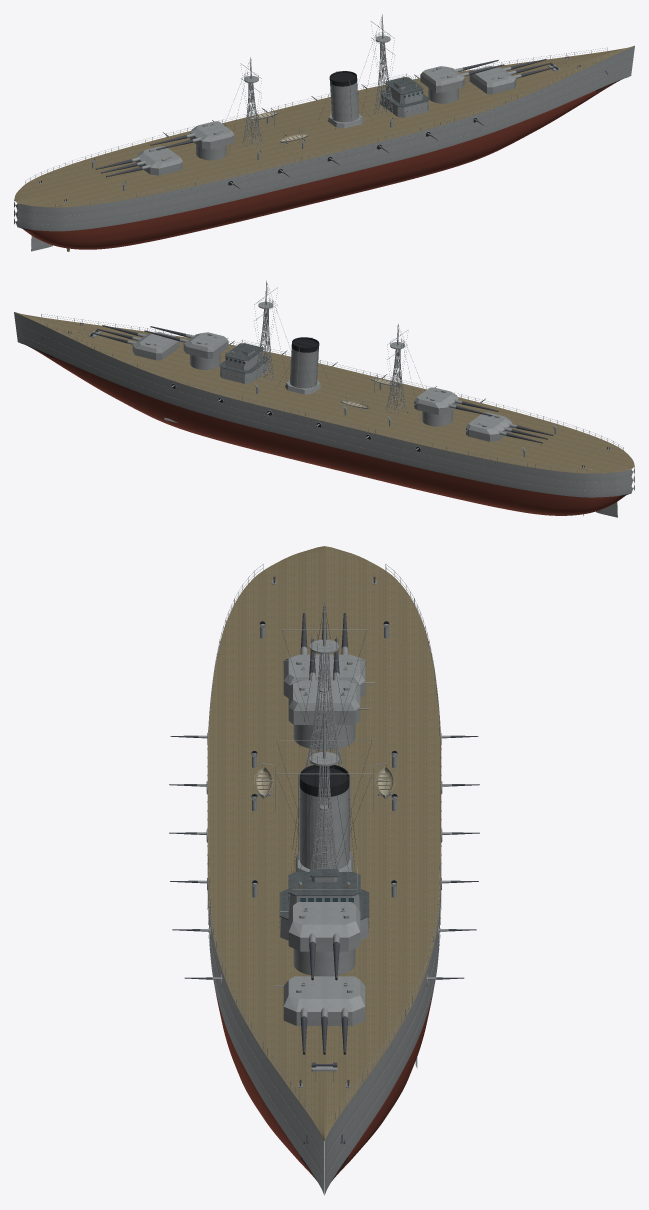
The model's file is nevada.glb.
3 renders of one model, top to bottom at view 1: azimuth 30°, elevation 25°; view 2: azimuth 150°, elevation 25°; view 3: azimuth 270°, elevation 25°, orthographic. The views are drawn at different scales.
Visible parts, largest first — view 1: Nevada class; view 2: Nevada class; view 3: Nevada class.
Part boxes in pixels (x1=…): Nevada class: x1=14, y1=14, x2=634, y2=251; Nevada class: x1=14, y1=280, x2=634, y2=517; Nevada class: x1=169, y1=546, x2=479, y2=1195.
Size of the model in its own units: 178 by 42.26 by 38.68.
9 materials, 8 textured.
